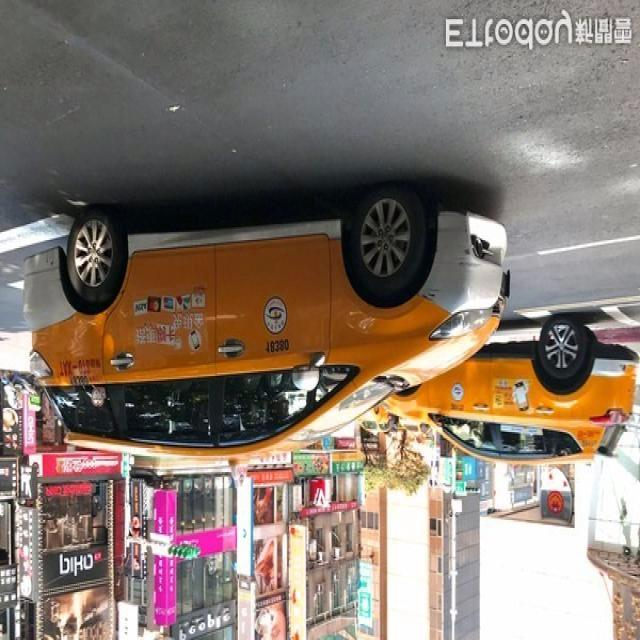taxi: (34, 167, 524, 495), (352, 316, 640, 502)
